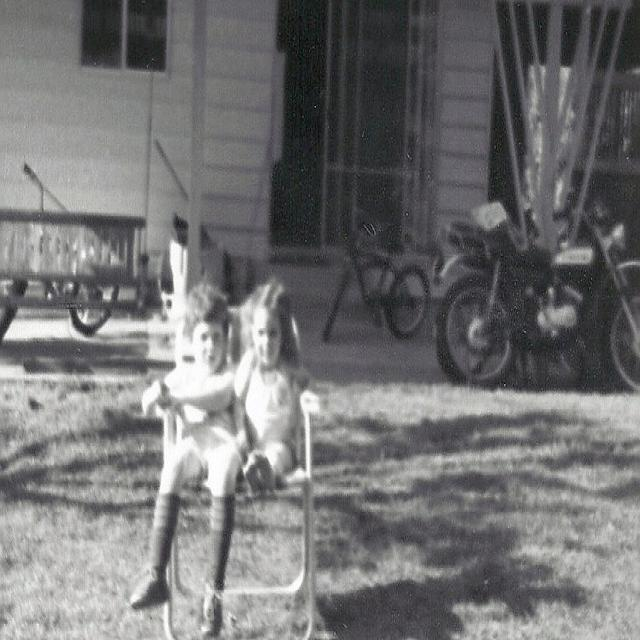motor: (434, 194, 640, 400)
